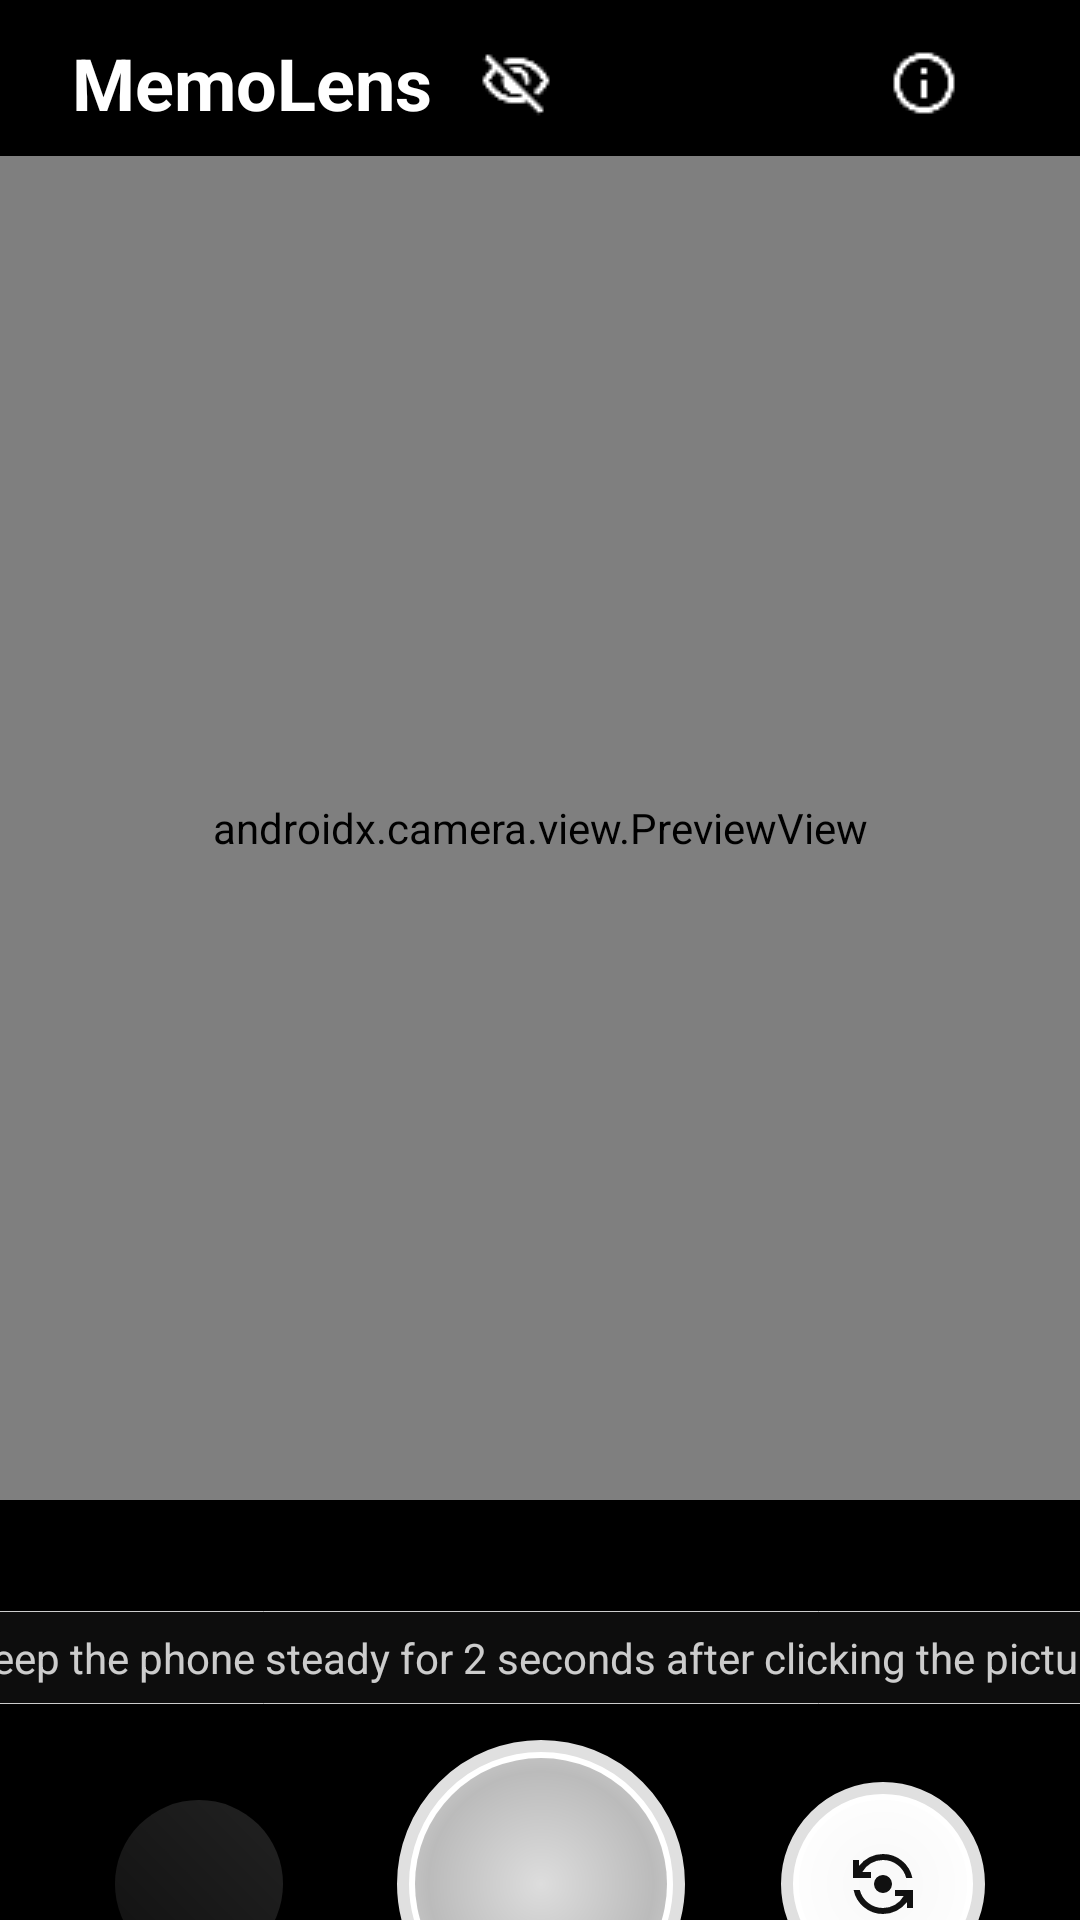

Point at icon controls on the screen. Image size 1080 × 1920, points as (x=x, y=y).
eye: (x=516, y=84)
info: (x=924, y=83)
